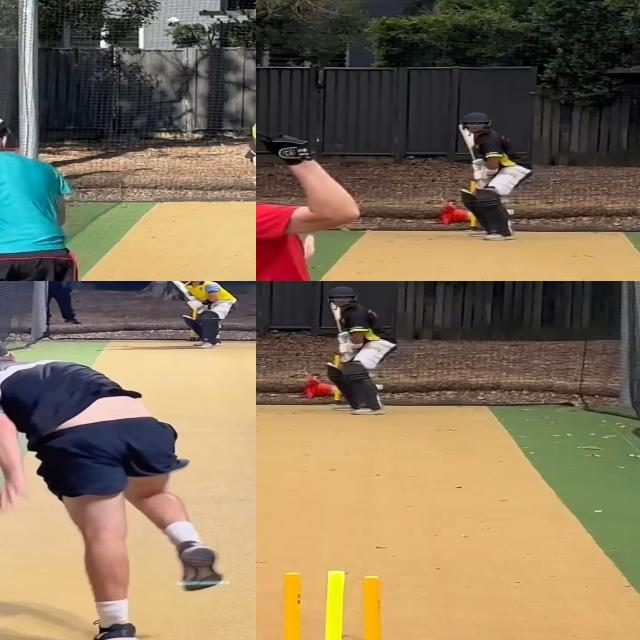Stumps: (261, 569, 398, 640)
